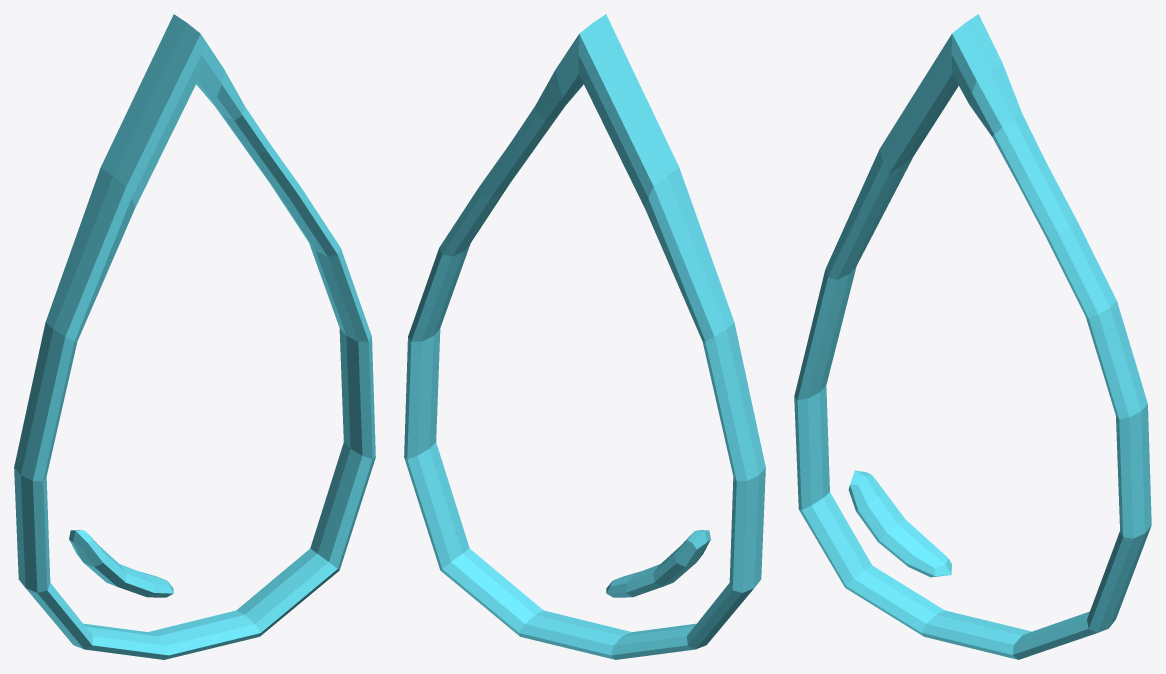
Rendered from Water.fbx.
The picture shows the model from 3 angles, left to right: view 1: azimuth 30°, elevation 25°; view 2: azimuth 150°, elevation 25°; view 3: azimuth 330°, elevation 25°; orthographic projection.
Parts seen in each view (by area): view 1: Plane.002; view 2: Plane.002; view 3: Plane.002.
Boxes of the visible parts, x1=… form: Plane.002: x1=14, y1=14, x2=375, y2=659; Plane.002: x1=404, y1=14, x2=765, y2=659; Plane.002: x1=794, y1=14, x2=1151, y2=659.
Size of the model in its own units: 156 by 267 by 21.69.
